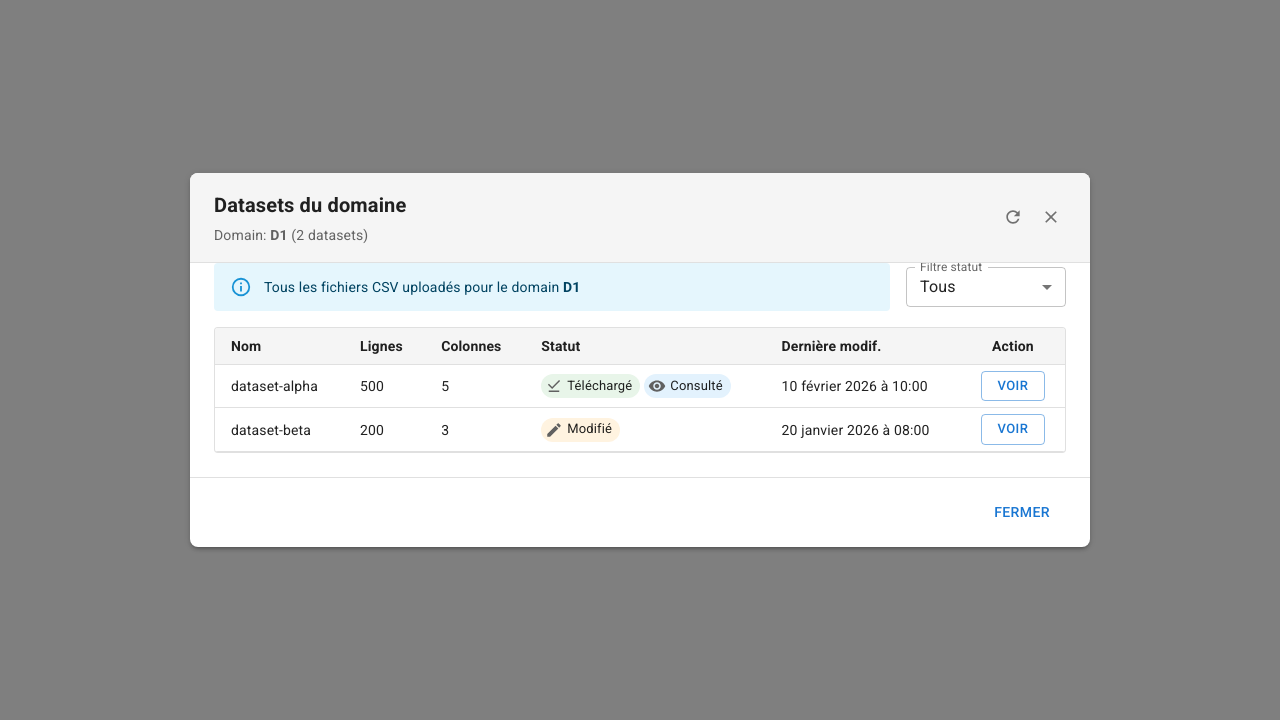
Test: DomainDatasetsModal › filtre par "Téléchargés" ne montre que dataset-alpha
Expected: the text "dataset-alpha" is shown, [215, 364, 344, 408]
Press the mouse on the dropdown at (938, 286), box [920, 277, 956, 296]
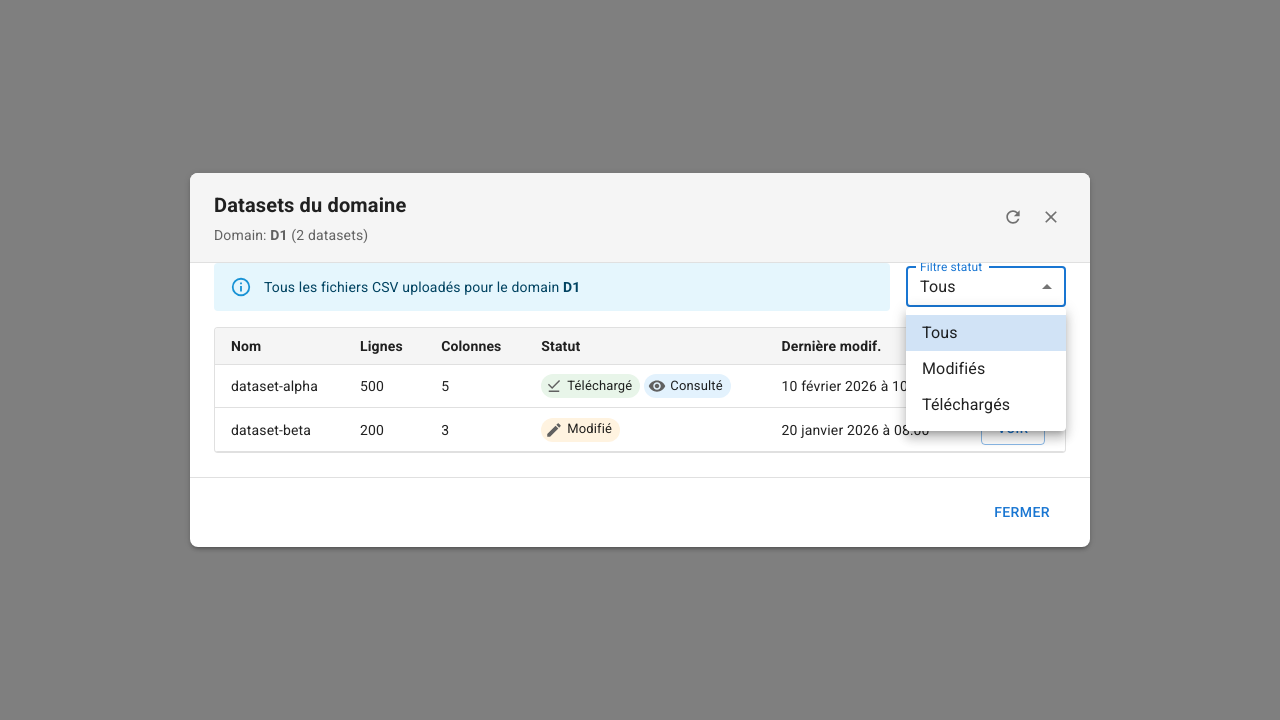
Click the option "Téléchargés" at (966, 404), box [922, 395, 1010, 414]
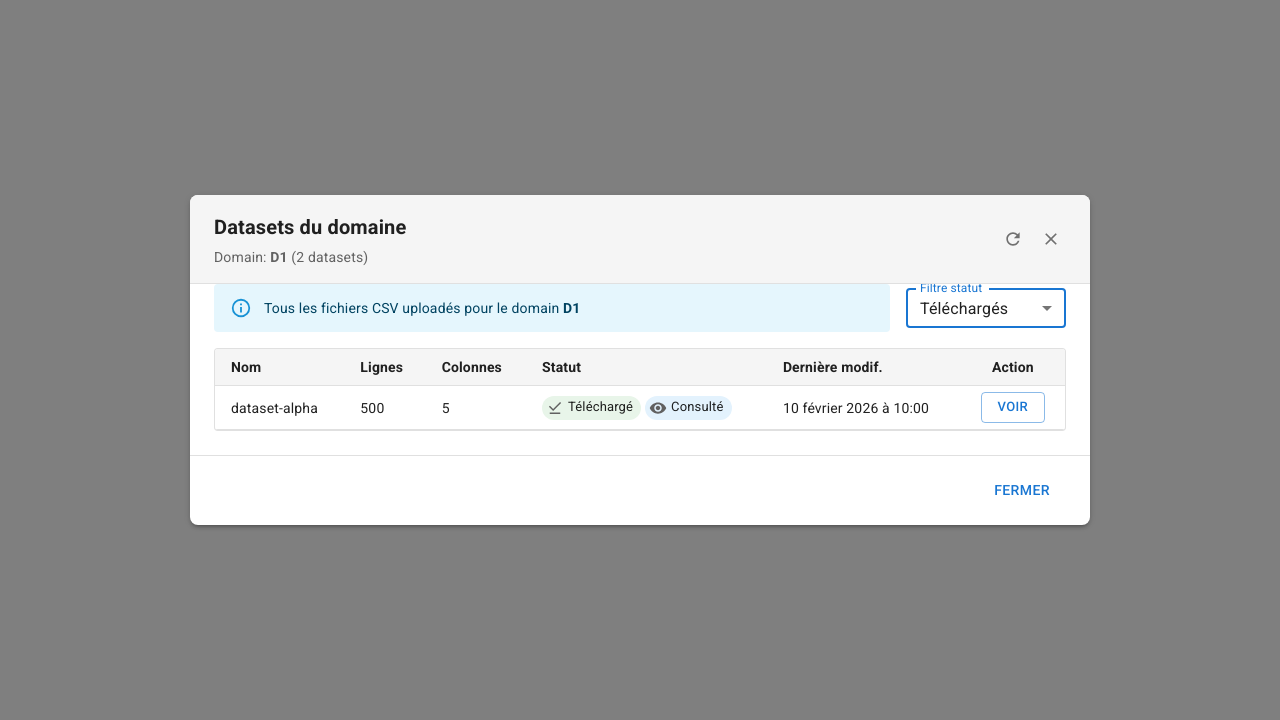
Expected: the text "dataset-alpha" is shown, [215, 386, 344, 430]
Expected: the text "dataset-beta" is gone
